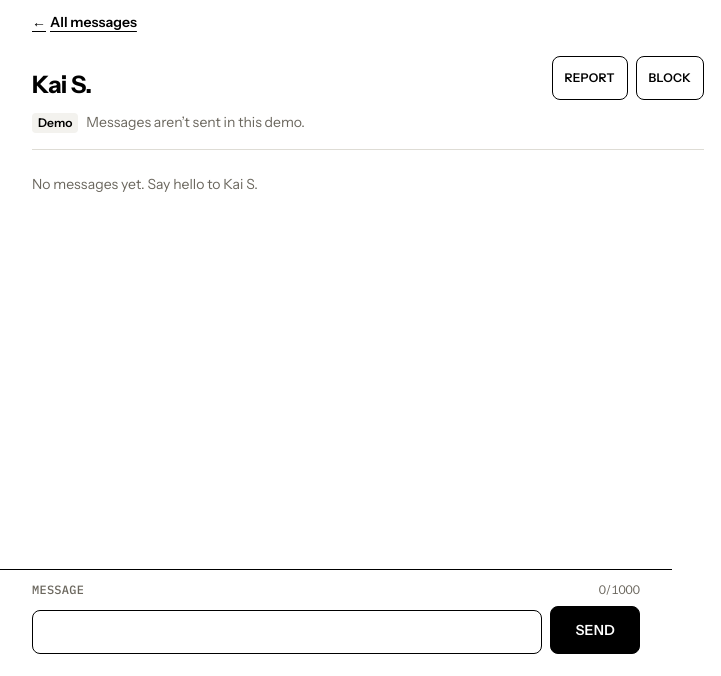
Test: /messages/[conversationId] (demo) › a sample member with no history starts empty, and the first message shows
Expected: the heading "Kai S." is shown, [32,70,92,100]
Expected: the text "No messages yet. Say hello to Kai S." is shown, [32,175,258,193]
In the text box named "Message Kai S.": (287, 632) [32,610,542,654], type "Hi Kai!"
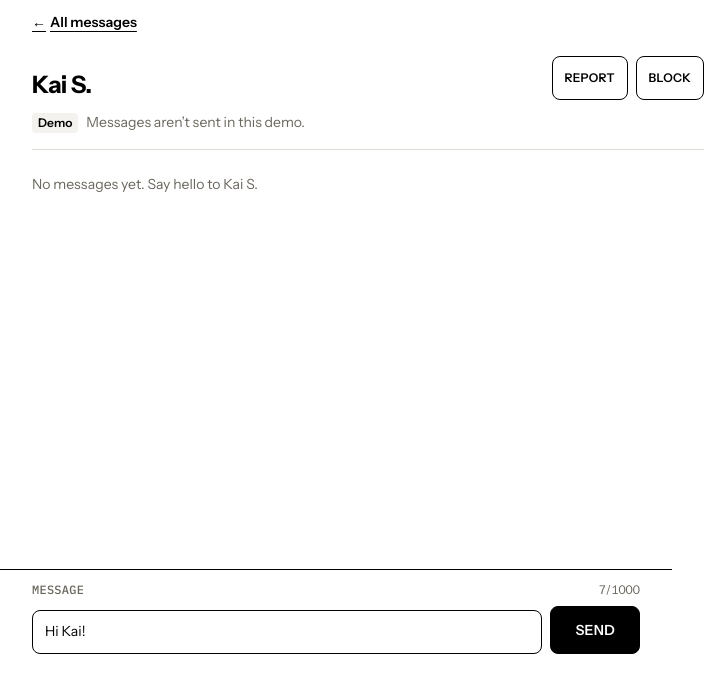
Click the button "Send": (595, 630) [550,606,640,654]
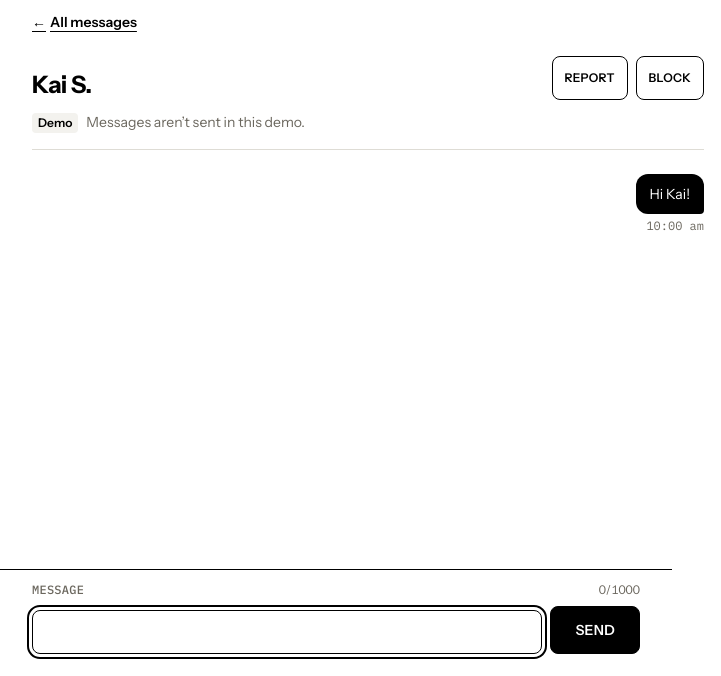
Expected: the number of list items is 1, [636,174,704,234]
Expected: the list named "Messages with Kai S." shows "Hi Kai!", [650,185,690,203]
